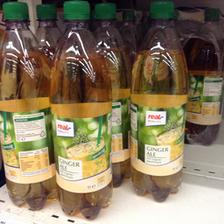Soda: (52, 1, 112, 221), (130, 1, 187, 201), (0, 0, 52, 210)
